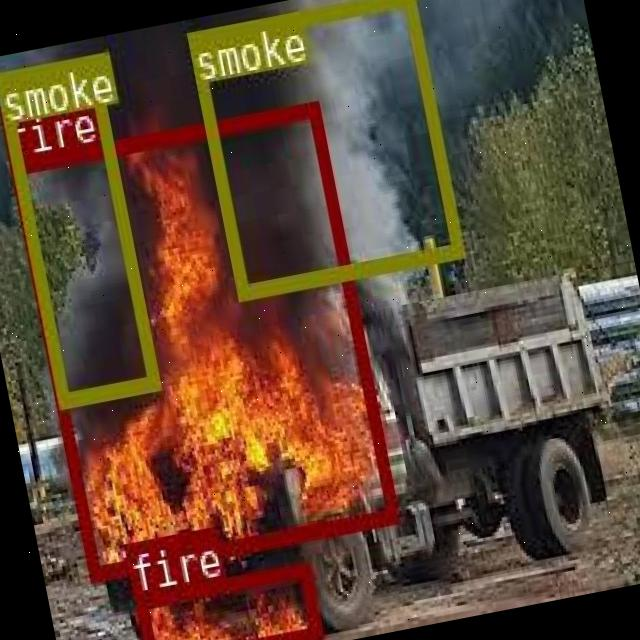fire: (8, 99, 398, 580), (131, 559, 320, 640)
smoke: (184, 0, 460, 296), (0, 52, 159, 407)
